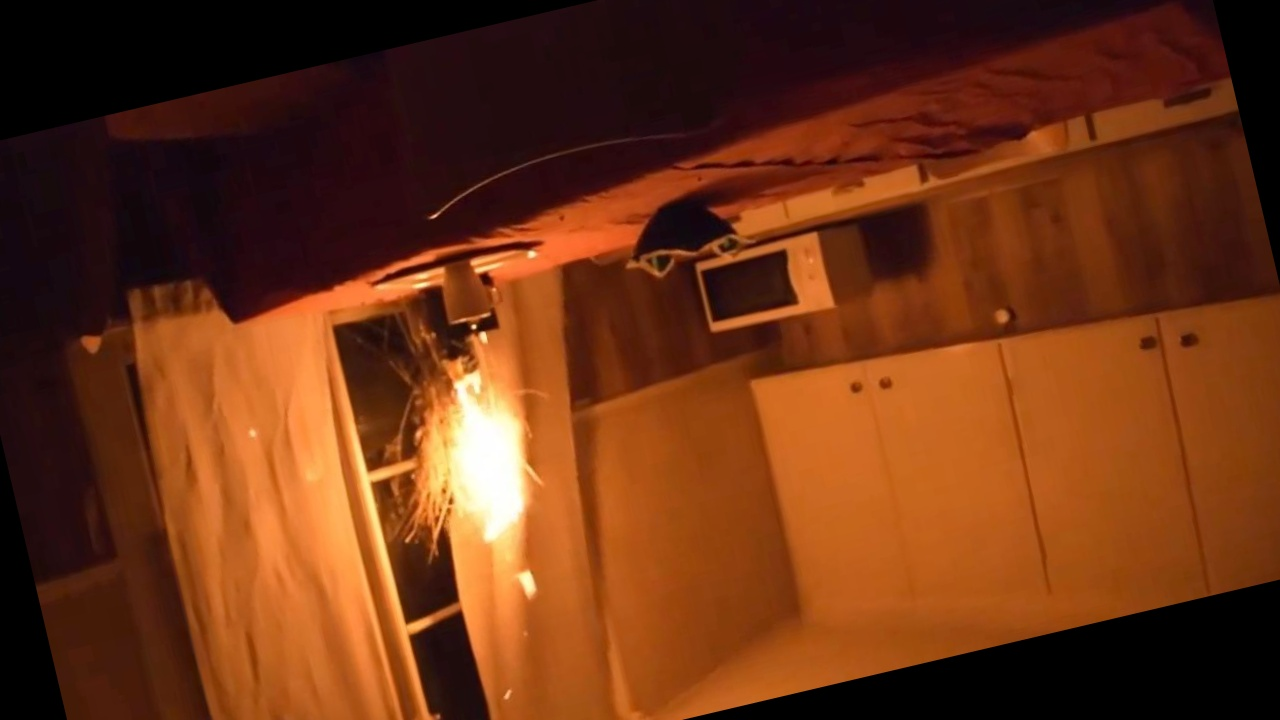fire: (391, 319, 582, 628)
